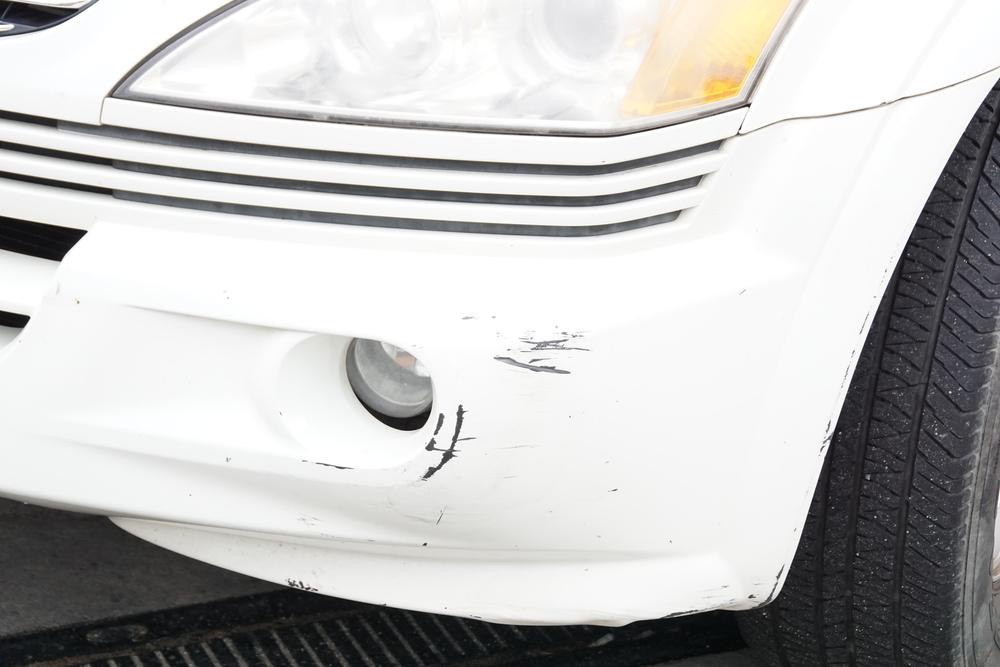scratch: (488, 317, 598, 380), (414, 394, 476, 494)
